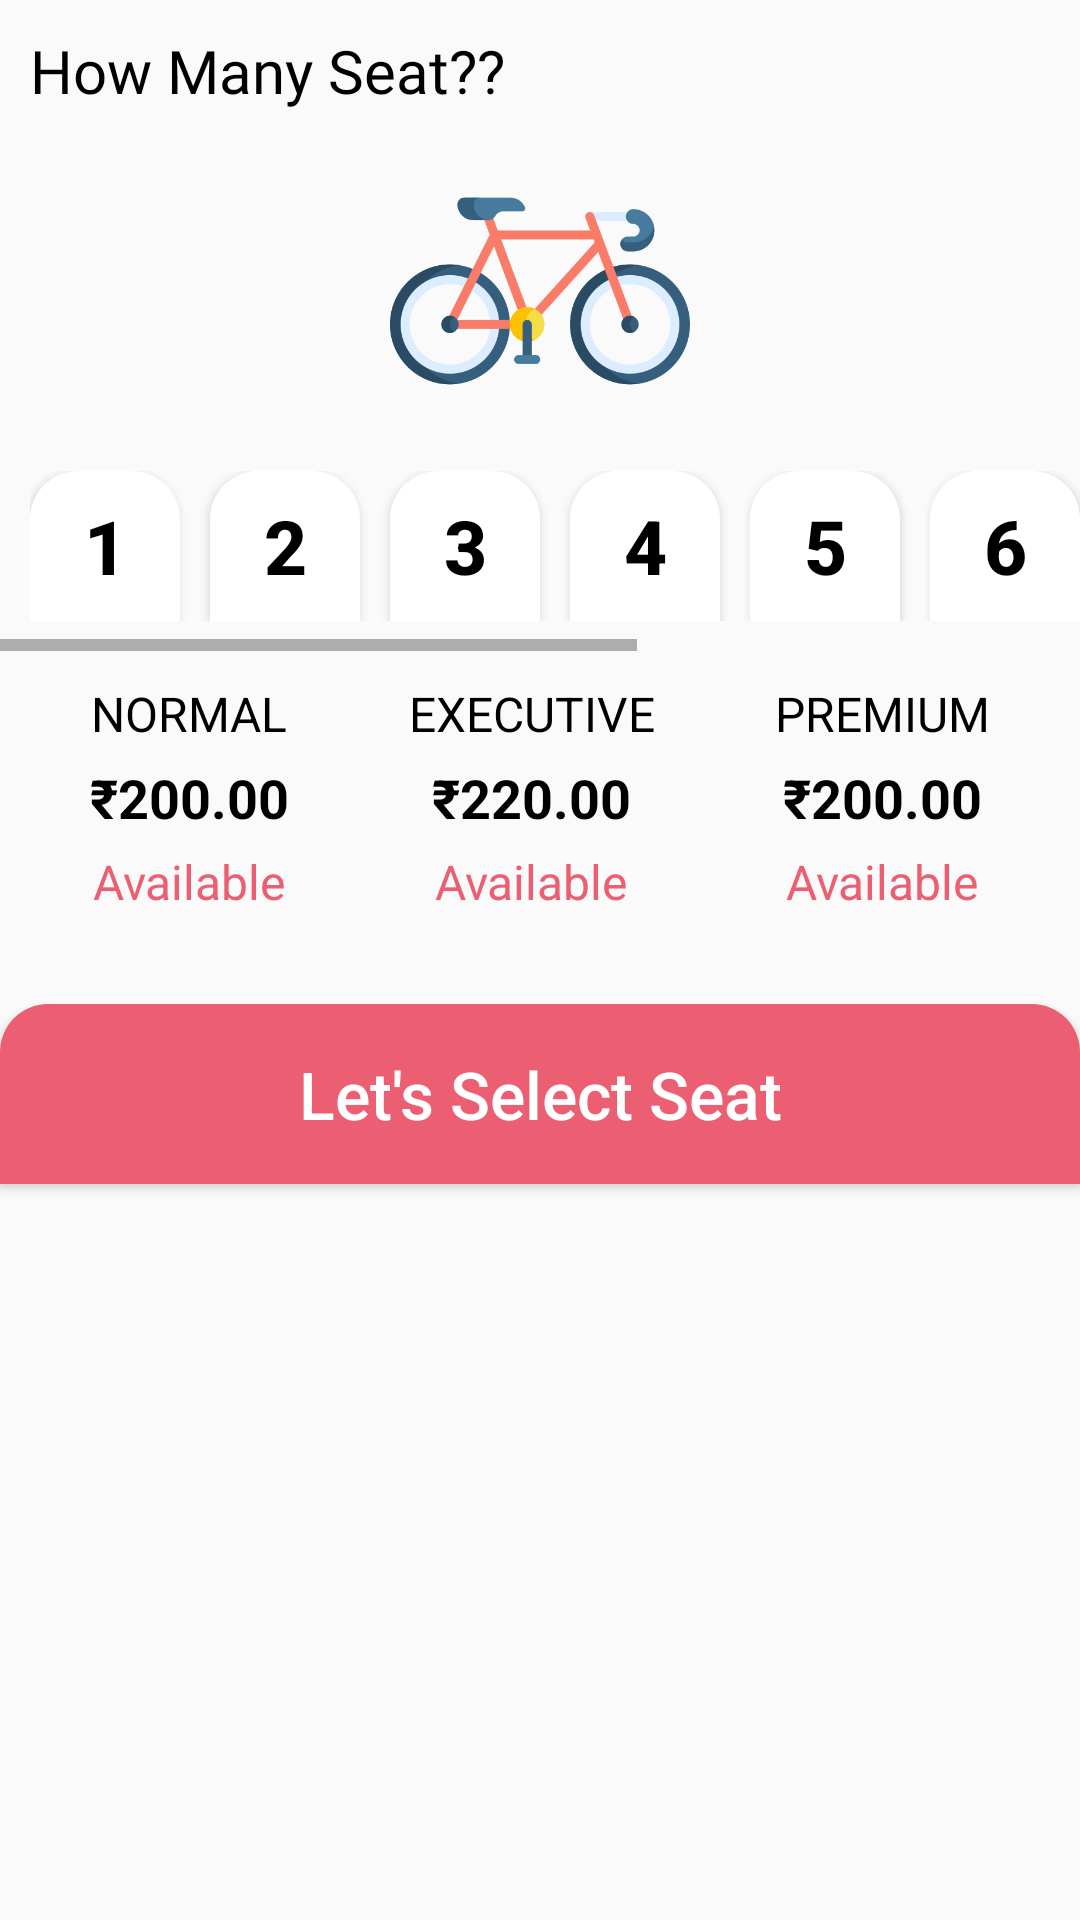

Where icons sit on this 1080px x 1920px app screen, as (x1, y1, x2, y2):
bicycle: (390, 197, 690, 385)
